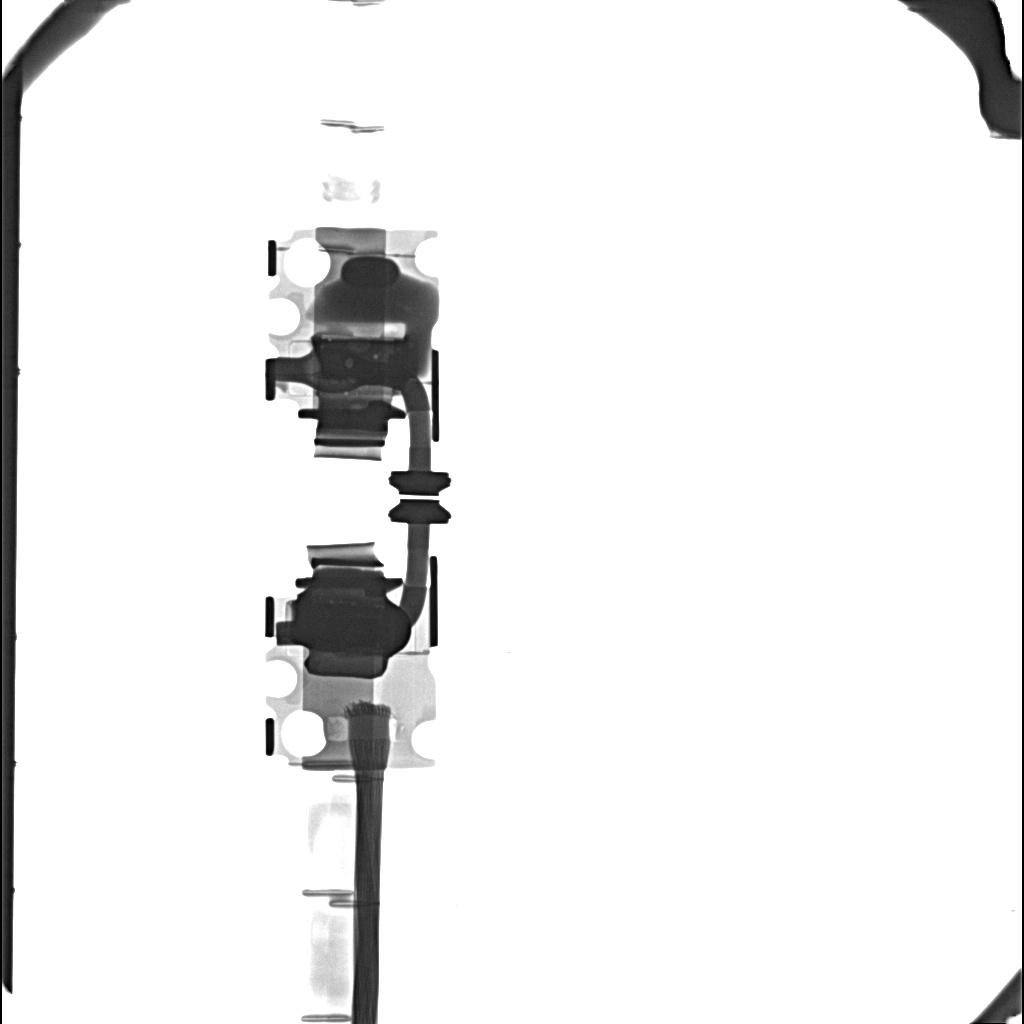PX: (319, 332, 356, 338)
SX: (296, 605, 411, 649), (315, 341, 414, 381)
